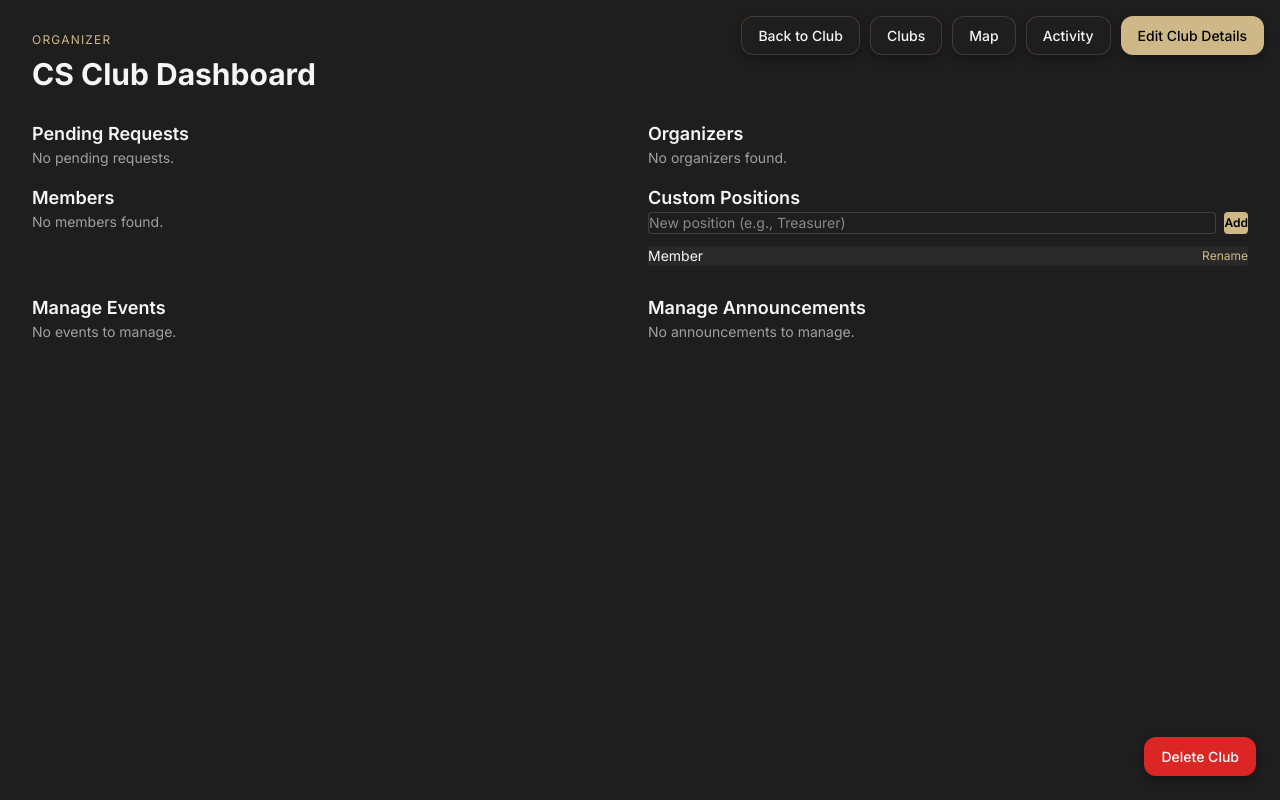
it: ClubOrganizerDashboard › lets admins add a custom club position
The image size is (1280, 800).
Expected: the heading "Custom Positions" is shown, [648, 187, 800, 208]
Type "Secretary" into the field with placeholder "New position (e.g., Treasurer)". click: (932, 223)
box: [648, 212, 1216, 234]
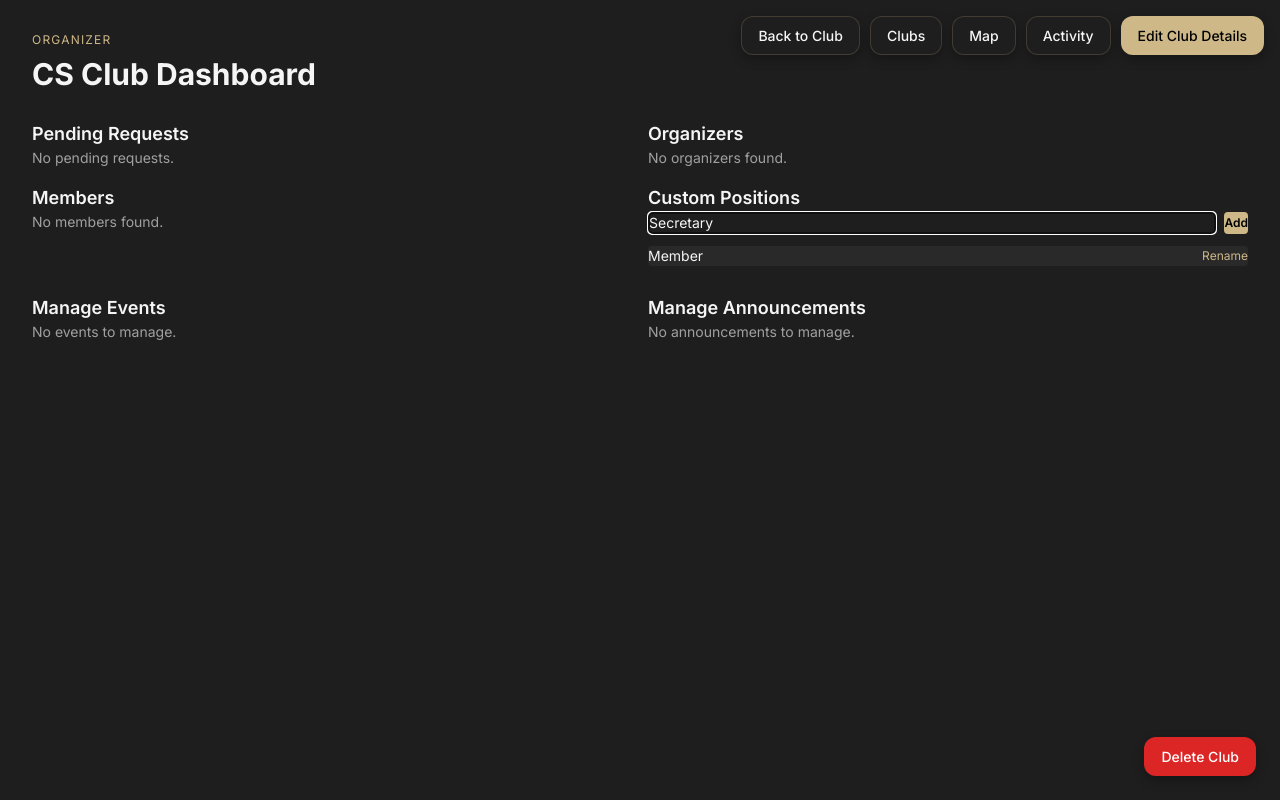
Click the button "Add". click: (1236, 223)
box: [1224, 212, 1248, 234]
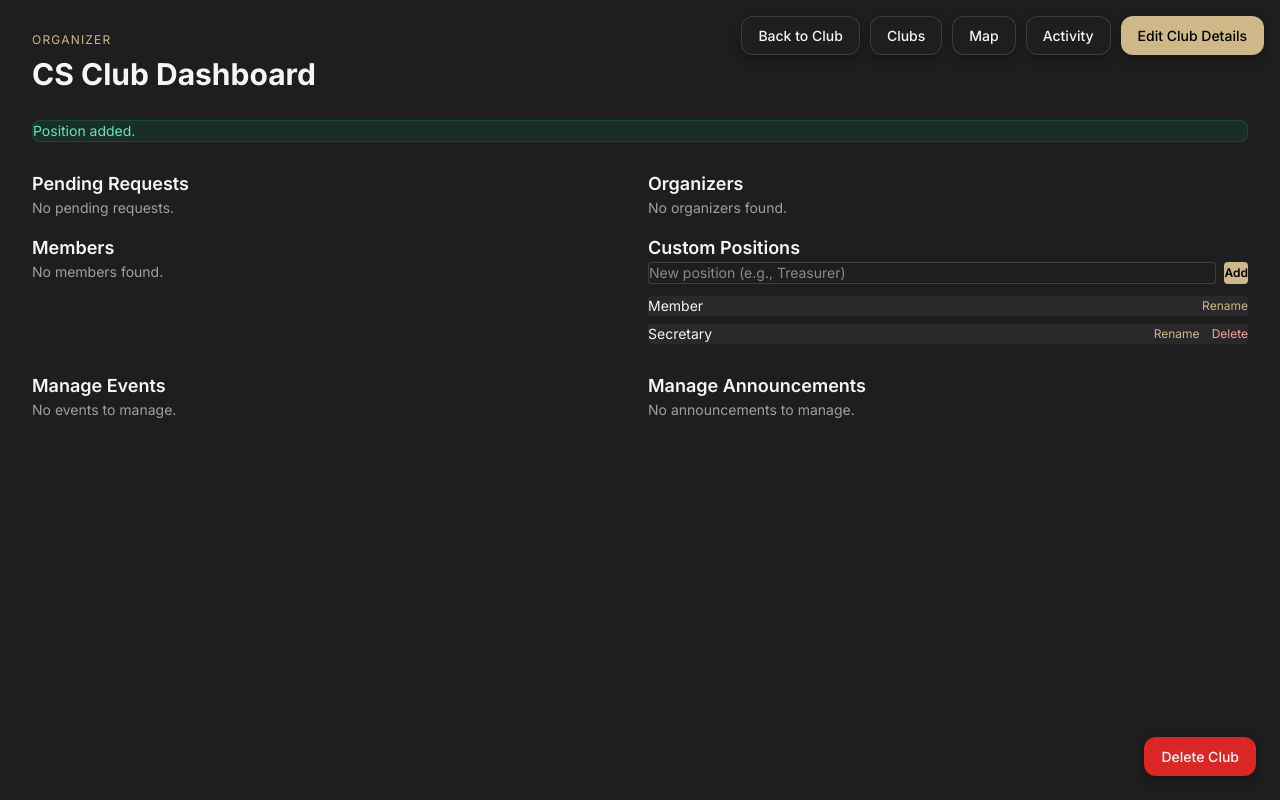
Expected: the text "Secretary" is shown, [648, 324, 712, 344]
